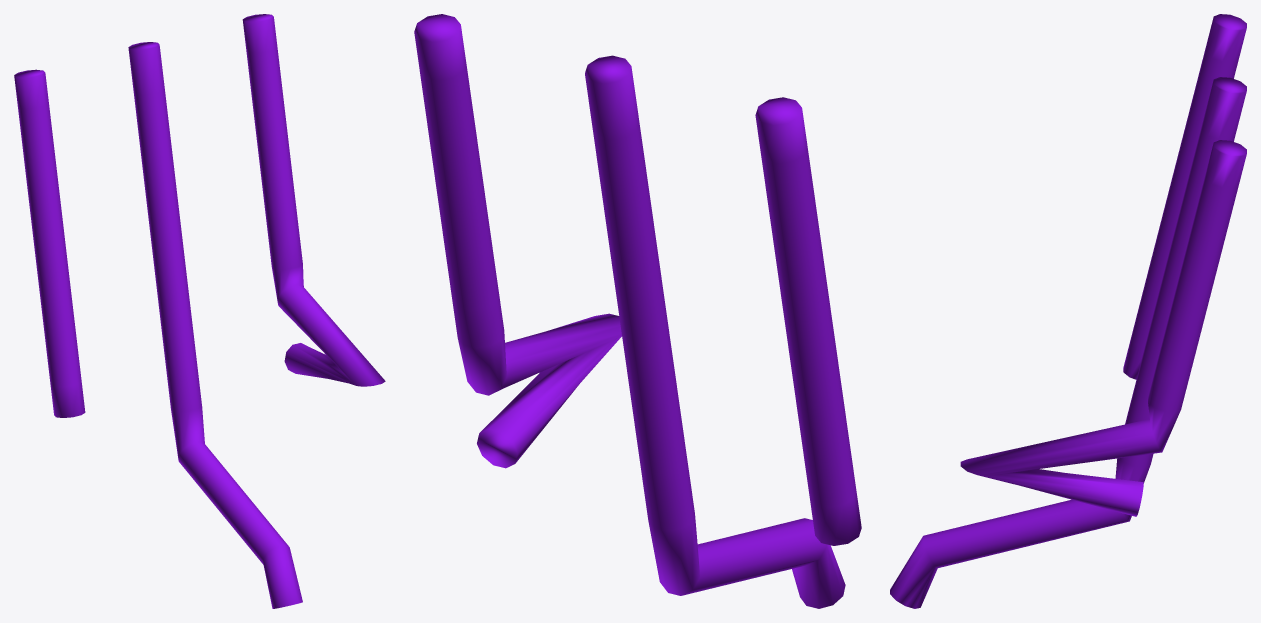
File: Zhaev-Null-authored-details.obj
3 views of the same model, side by side, from view 1: azimuth 30°, elevation 25°; view 2: azimuth 150°, elevation 25°; view 3: azimuth 270°, elevation 25° (orthographic). The views are drawn at different scales.
Bounding box in the file's own units: 0.056 × 0.0969 × 0.0598.
